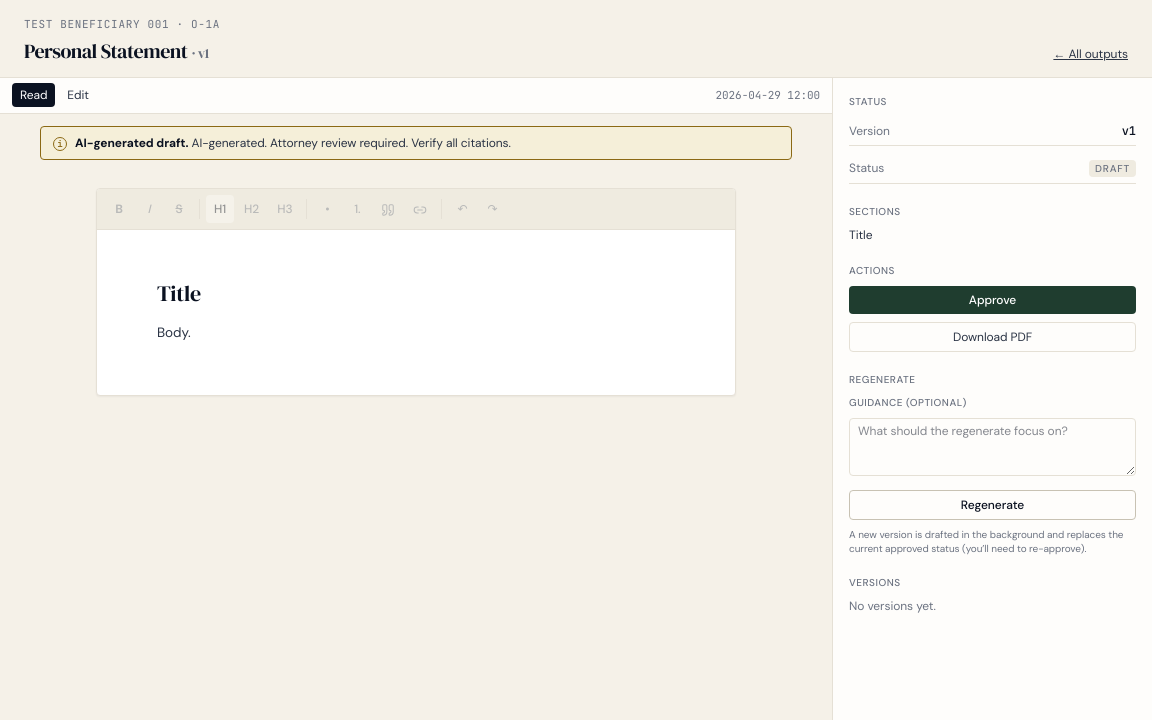
Test case: OutputDetailPanel — mode toggle › clicking Edit reveals Save + Cancel buttons
Click the button "Edit". click: (78, 95)
box: [59,83,97,107]
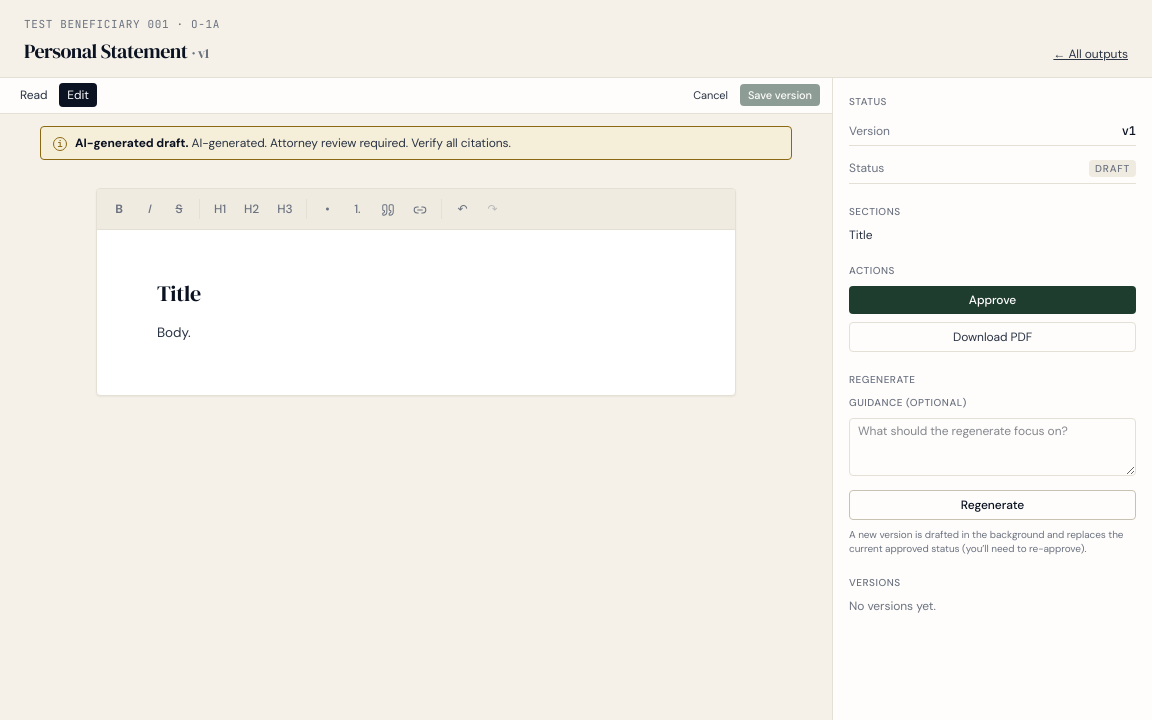
Expected: the button "Save version" is shown, [740,84,820,106]
Expected: the button "Cancel" is shown, [685,84,736,106]
